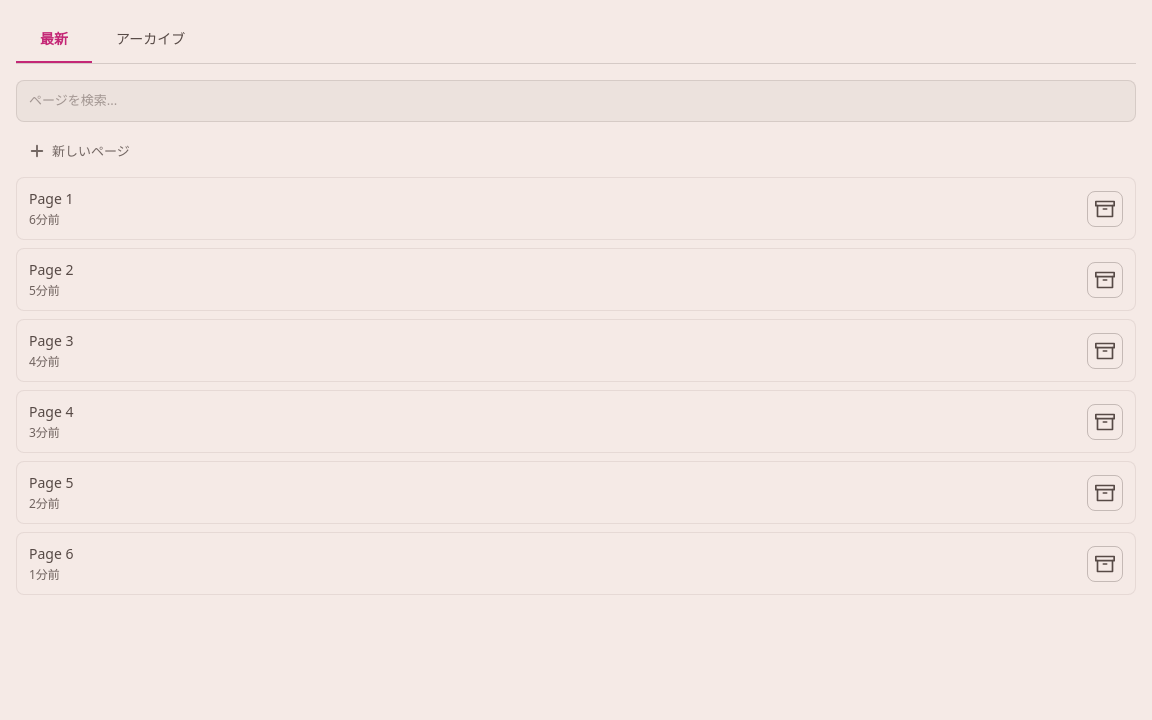
Test case: Sidebar › search › filters pages by search query
Type "Page 1" into the field labelled "ページを検索".
click(576, 101); type("Page 1")  # box [16,80,1136,122]
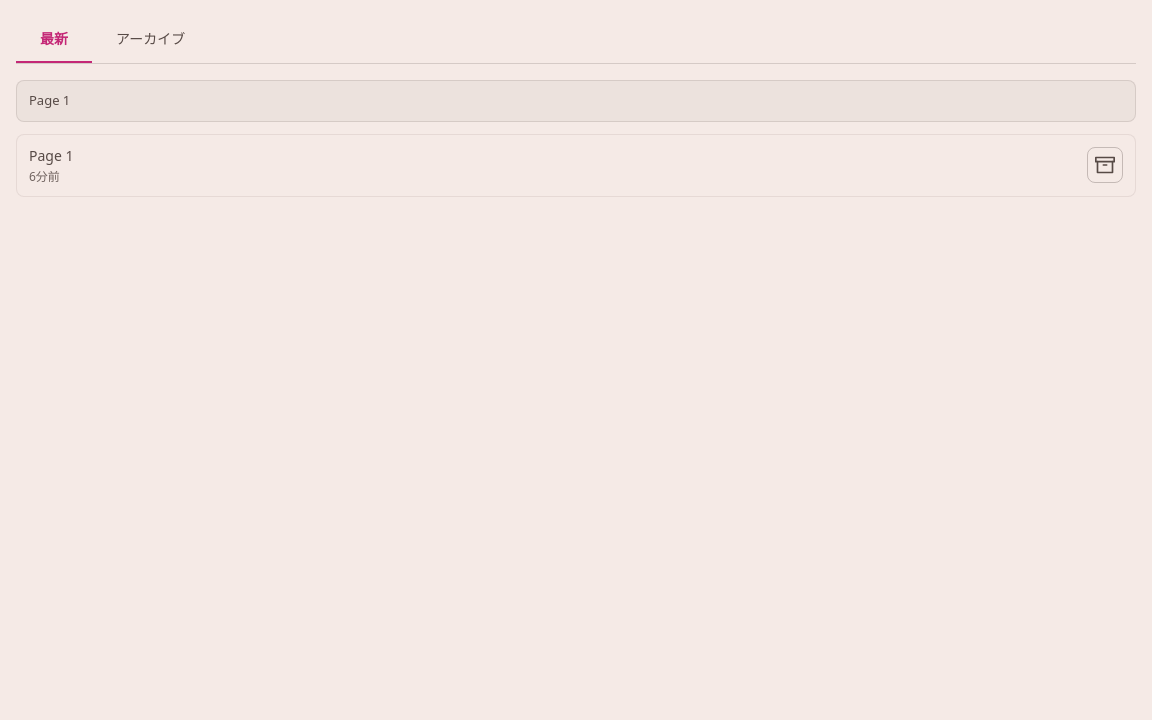
Expected: the heading "Page 1" is shown, [29,146,74,164]
Now the button "Page 2" is gone
